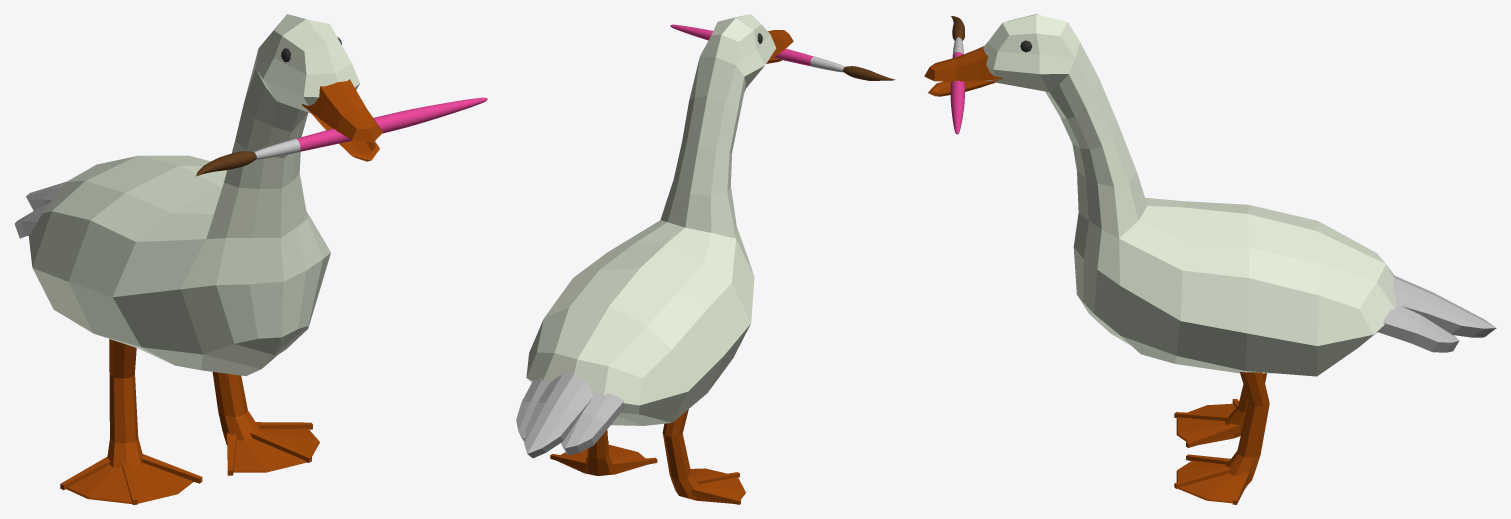
Rendered from duck-paintbrush.fbx.
3 views of the same model, side by side, from view 1: azimuth 30°, elevation 25°; view 2: azimuth 150°, elevation 25°; view 3: azimuth 270°, elevation 25° (orthographic). The views are drawn at different scales.
Parts seen in each view (by area): view 1: duck, uploads_files_225921_Paint+Brush+and+Colors+OBJ.003, uploads_files_225921_Paint+Brush+and+Colors+OBJ.001, uploads_files_225921_Paint+Brush+and+Colors+OBJ.002; view 2: duck, uploads_files_225921_Paint+Brush+and+Colors+OBJ.003, uploads_files_225921_Paint+Brush+and+Colors+OBJ.001; view 3: duck, uploads_files_225921_Paint+Brush+and+Colors+OBJ.003.
Boxes of the visible parts, left/top/right/bottom form: duck: left=14, top=14, right=382, bottom=504; uploads_files_225921_Paint+Brush+and+Colors+OBJ.003: left=297, top=97, right=487, bottom=151; uploads_files_225921_Paint+Brush+and+Colors+OBJ.001: left=196, top=151, right=256, bottom=176; uploads_files_225921_Paint+Brush+and+Colors+OBJ.002: left=254, top=138, right=300, bottom=159; duck: left=516, top=14, right=793, bottom=504; uploads_files_225921_Paint+Brush+and+Colors+OBJ.003: left=670, top=24, right=813, bottom=66; uploads_files_225921_Paint+Brush+and+Colors+OBJ.001: left=843, top=66, right=895, bottom=80; duck: left=924, top=14, right=1496, bottom=504; uploads_files_225921_Paint+Brush+and+Colors+OBJ.003: left=950, top=52, right=965, bottom=134.
Bounding box in the file's own units: 208 × 357 × 420.
